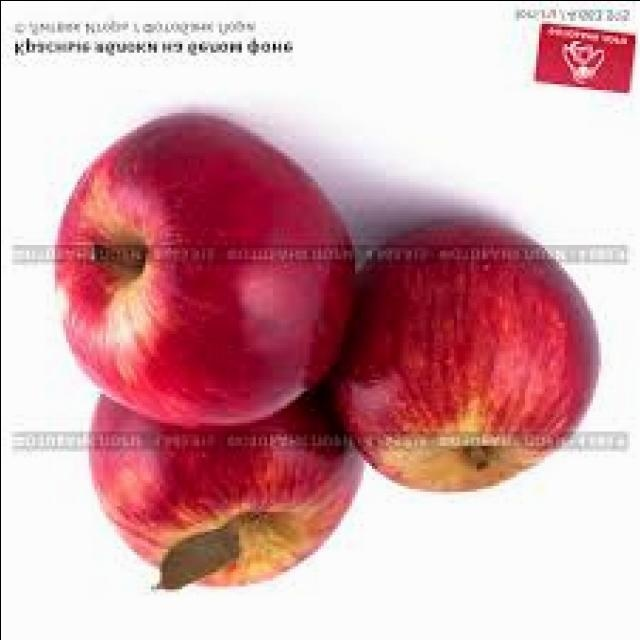agrume: (6, 128, 392, 449), (302, 209, 608, 553), (53, 310, 391, 602)
